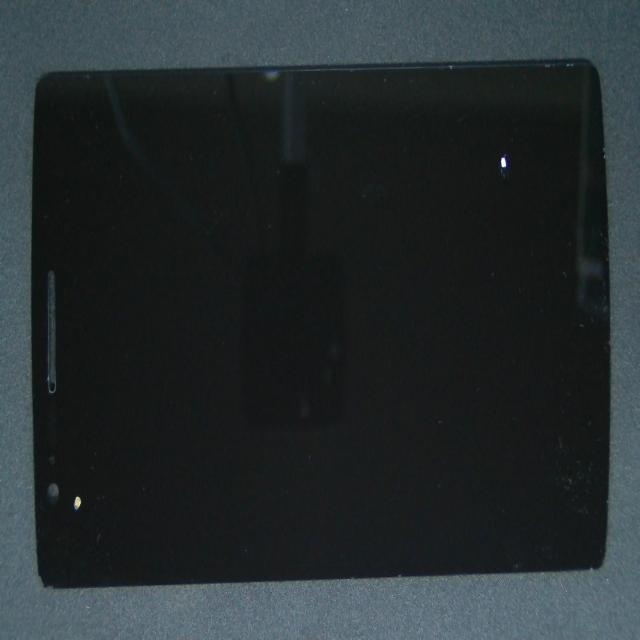stain: (282, 69, 640, 207), (19, 306, 116, 640)
